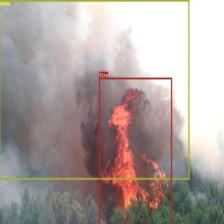fire: (98, 77, 172, 224)
smoke: (0, 0, 189, 179)
